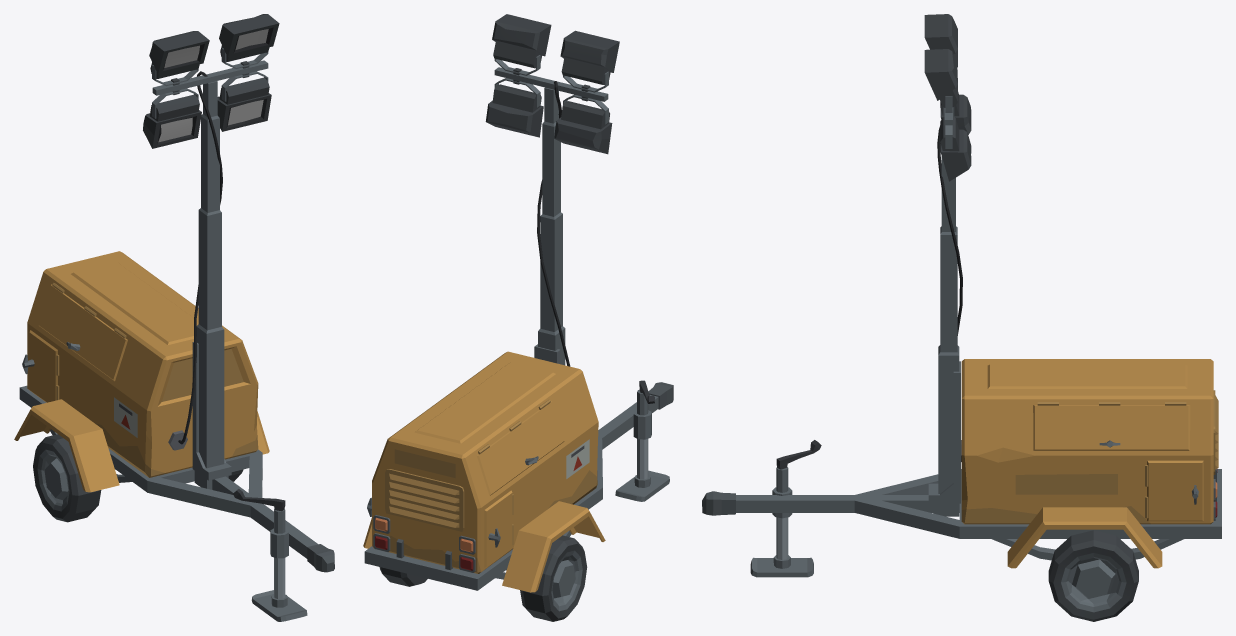
The model's file is SM_Prop_Floodlights_01.obj.
3 views of the same model, side by side, from view 1: azimuth 30°, elevation 25°; view 2: azimuth 150°, elevation 25°; view 3: azimuth 270°, elevation 25° (orthographic). The views are drawn at different scales.
Visible parts, largest first — view 1: SM_Prop_Floodlights_01_0; view 2: SM_Prop_Floodlights_01_0; view 3: SM_Prop_Floodlights_01_0.
Part boxes in pixels (<box>): SM_Prop_Floodlights_01_0: <box>14,14,334,621</box>; SM_Prop_Floodlights_01_0: <box>363,14,673,621</box>; SM_Prop_Floodlights_01_0: <box>702,14,1221,621</box>.
Bounding box in the file's own units: 1.42 × 3.94 × 3.46.
1 material, 1 textured.
